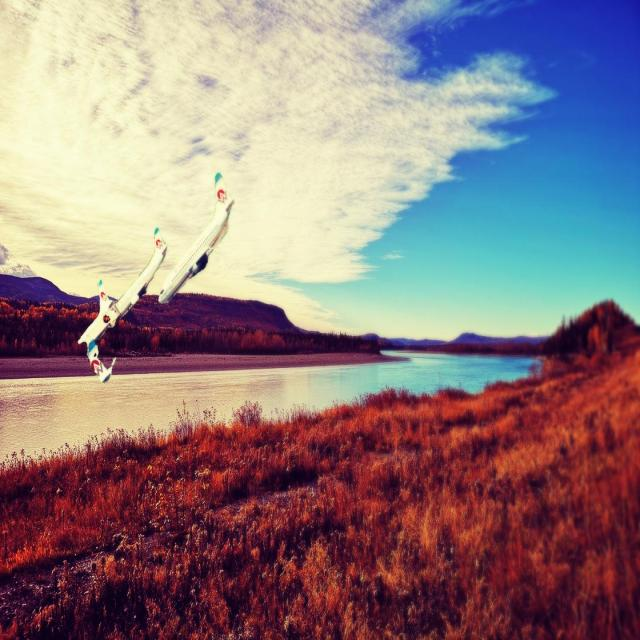airplane: (78, 226, 168, 383), (158, 170, 235, 304)
